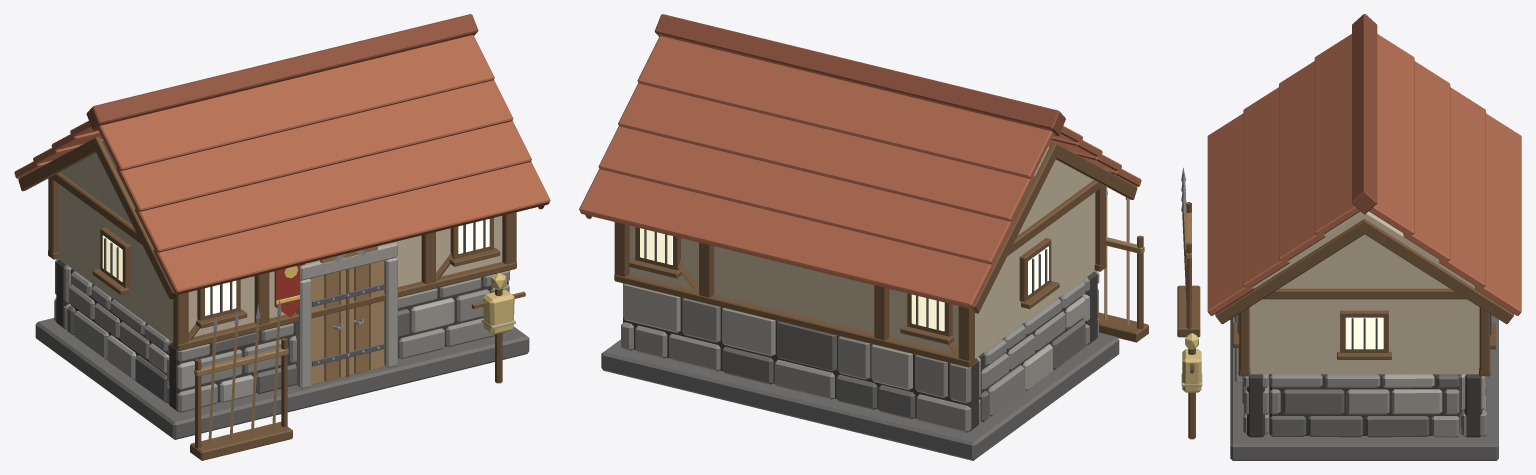
Rendered from barracks_1.glb.
The picture shows the model from 3 angles, left to right: view 1: azimuth 30°, elevation 25°; view 2: azimuth 150°, elevation 25°; view 3: azimuth 270°, elevation 25°; orthographic projection. The views are drawn at different scales.
Visible parts, largest first — view 1: Barracks; view 2: Barracks; view 3: Barracks.
Part boxes in pixels (x1,y1,x2,y2): Barracks: (14, 14, 550, 460); Barracks: (579, 14, 1148, 460); Barracks: (1177, 14, 1521, 460).
Bounding box in the file's own units: 6.6 × 4.76 × 5.39.
